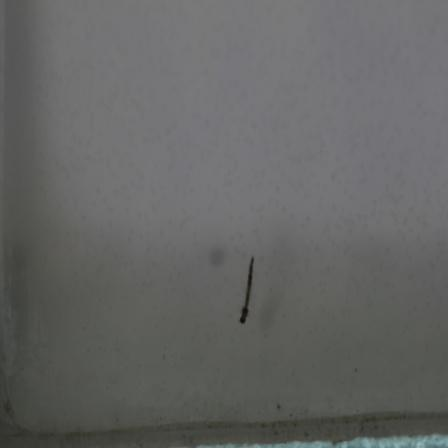Jentik-Nyamuk: (234, 254, 263, 324)
